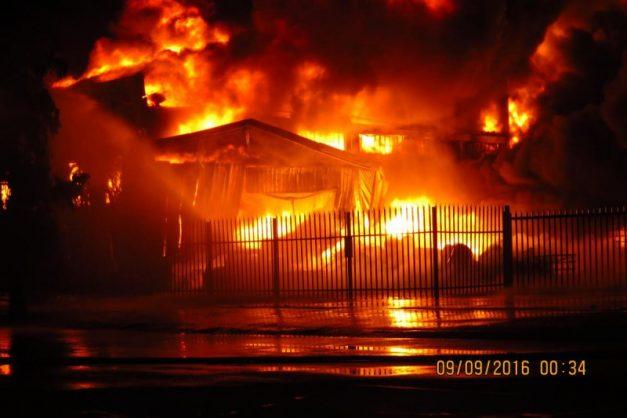Fire: (48, 11, 627, 261)
